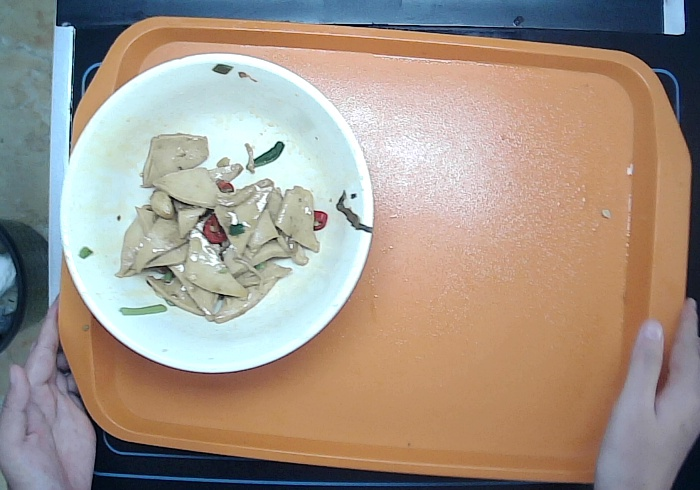ZNLD-Da_Tang_Wan: (55, 48, 377, 377)
